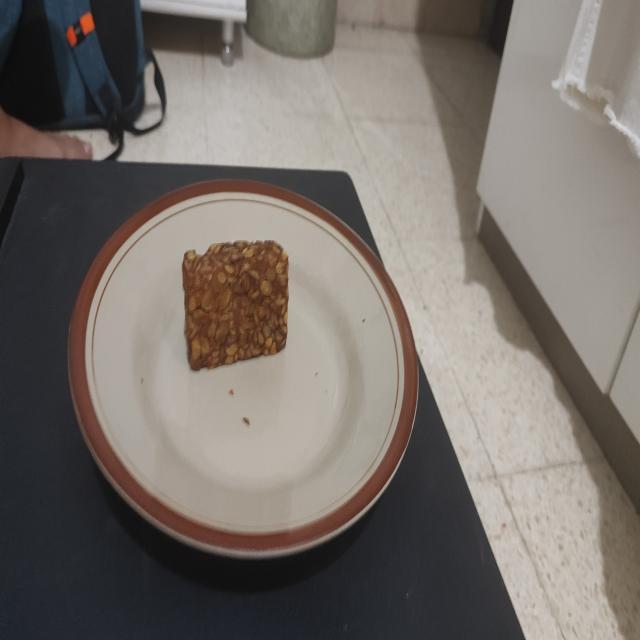tempe_goreng: (182, 240, 288, 370)
